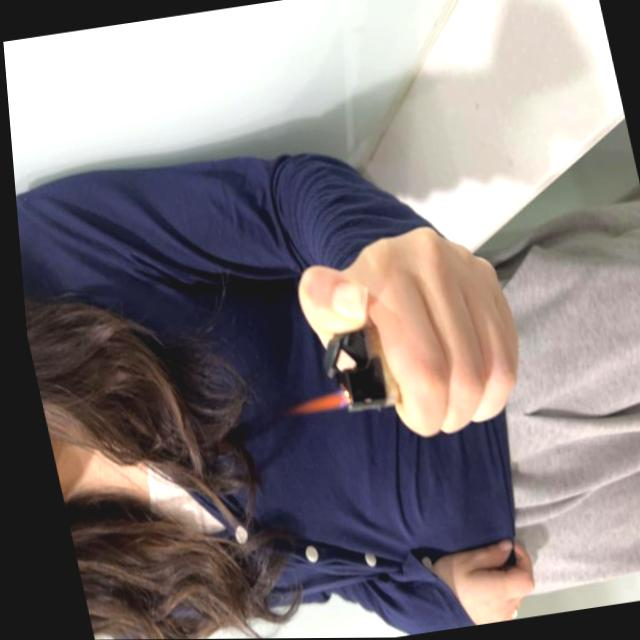helmet: (283, 393, 342, 420)
